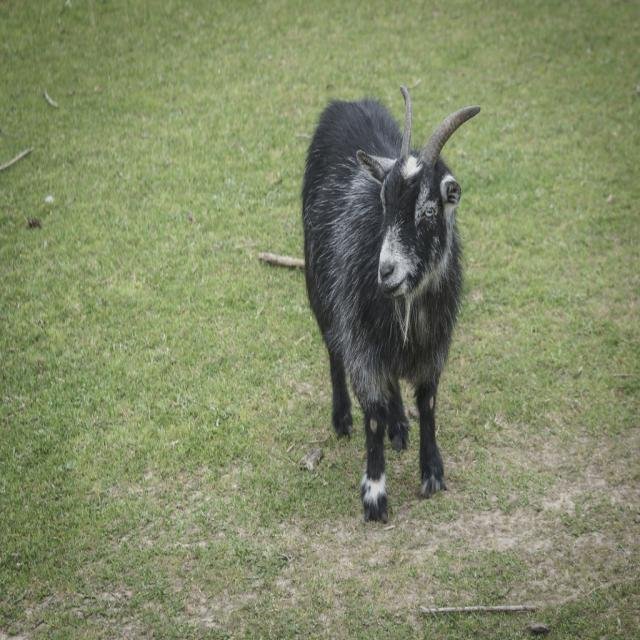Goat: (301, 83, 482, 524)
